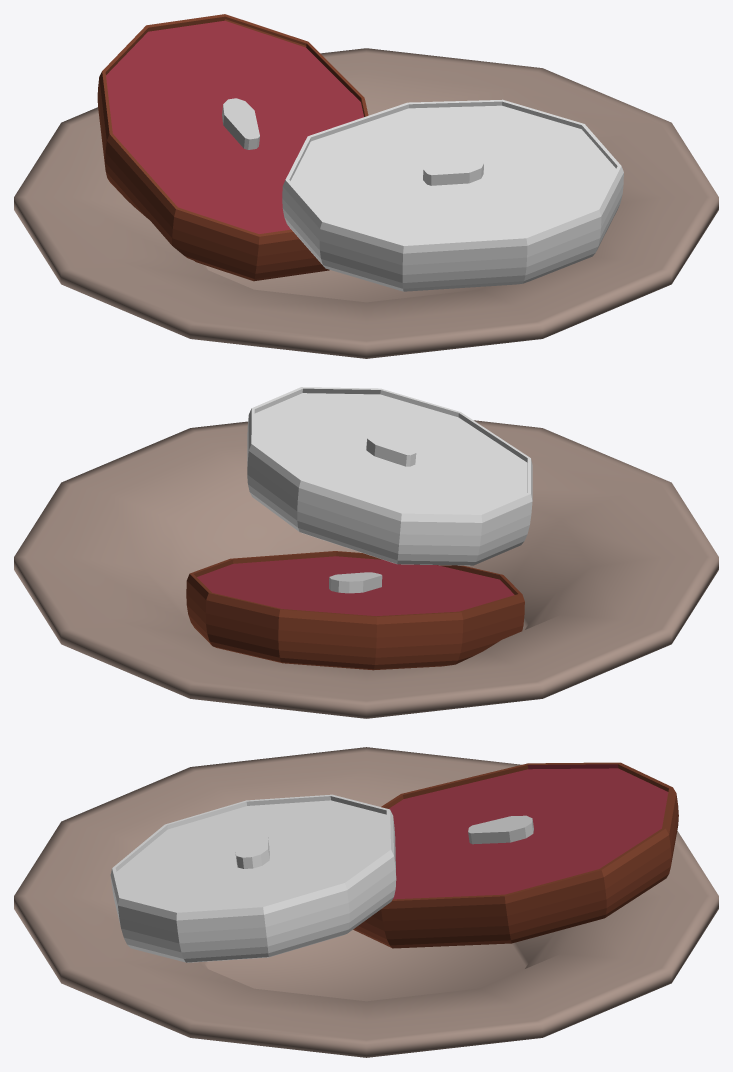
File: Dinner (2).fbx
The picture shows the model from 3 angles, top to bottom: view 1: azimuth 30°, elevation 25°; view 2: azimuth 150°, elevation 25°; view 3: azimuth 270°, elevation 25°; orthographic projection.
Visible parts, largest first — view 1: Dinner, Dinner_2, Dinner_1; view 2: Dinner, Dinner_2, Dinner_1; view 3: Dinner, Dinner_1, Dinner_2.
Boxes of the visible parts, x1,y1,x2,y2 form: Dinner: [14, 48, 718, 358]; Dinner_2: [282, 99, 623, 291]; Dinner_1: [97, 14, 368, 281]; Dinner: [14, 420, 718, 718]; Dinner_2: [247, 387, 532, 565]; Dinner_1: [186, 551, 524, 670]; Dinner: [14, 747, 718, 1057]; Dinner_1: [353, 762, 678, 948]; Dinner_2: [110, 794, 396, 962].
Size of the model in its own units: 0.1904 by 0.1904 by 0.0461.
